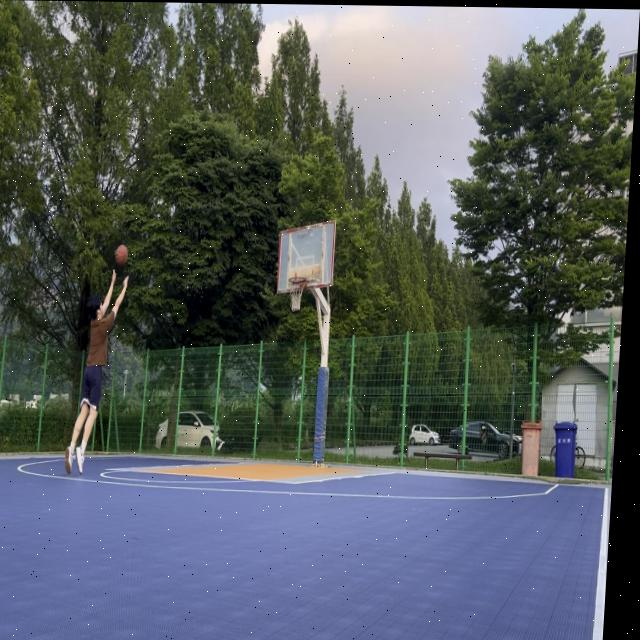basketball: (114, 243, 129, 267)
hoop: (287, 277, 307, 313)
